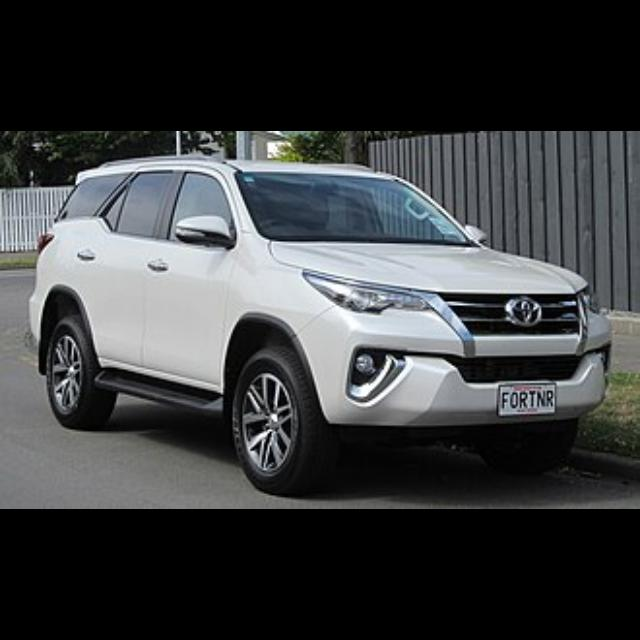number-plate: (495, 382, 557, 417)
vehicles: (20, 149, 615, 496)
